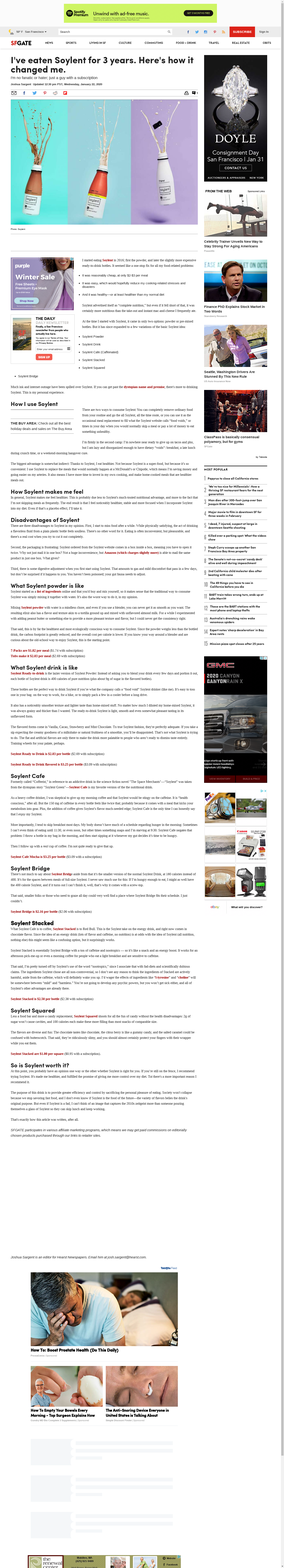fake_button: (33, 354, 54, 361)
